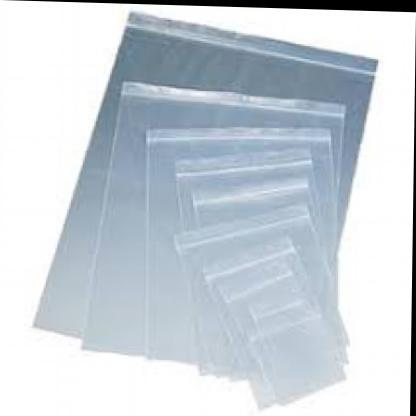Plastic: (36, 12, 377, 410)
